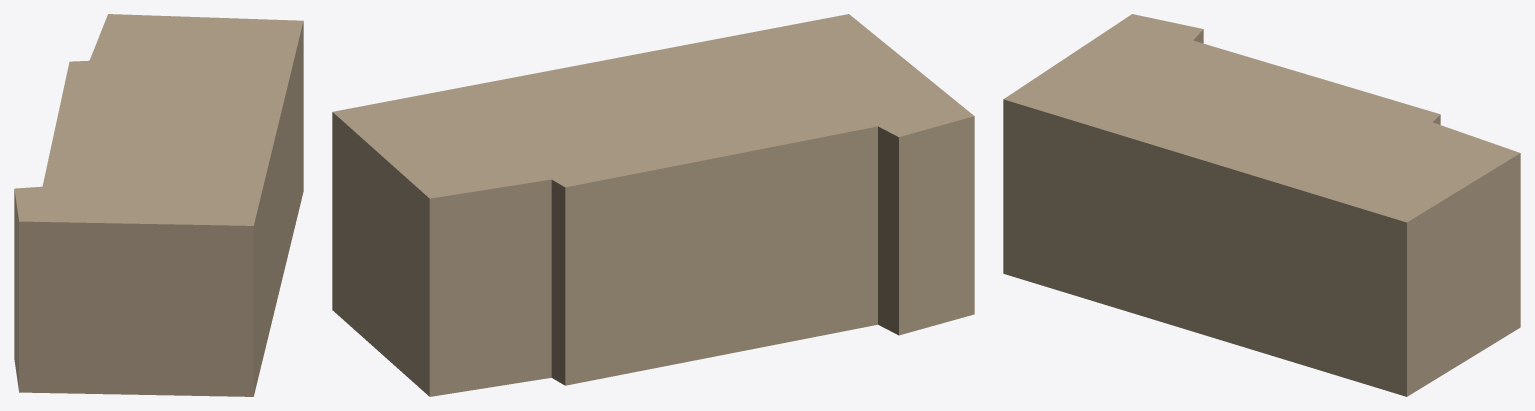
The model's file is bld_977330735.dae.
3 views of the same model, side by side, from view 1: azimuth 30°, elevation 25°; view 2: azimuth 150°, elevation 25°; view 3: azimuth 270°, elevation 25° (orthographic). The views are drawn at different scales.
Visible parts, largest first — view 1: bld_977330735; view 2: bld_977330735; view 3: bld_977330735.
Boxes of the visible parts, <box> form: bld_977330735: <box>14,14,303,396</box>; bld_977330735: <box>332,14,974,396</box>; bld_977330735: <box>1003,14,1520,396</box>.
Size of the model in its own units: 30.77 by 32.25 by 12.
